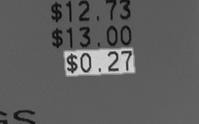$: (65, 51, 78, 75)
.: (96, 54, 105, 73)
0: (79, 52, 93, 73)
2: (106, 49, 119, 73)
7: (120, 48, 133, 74)
